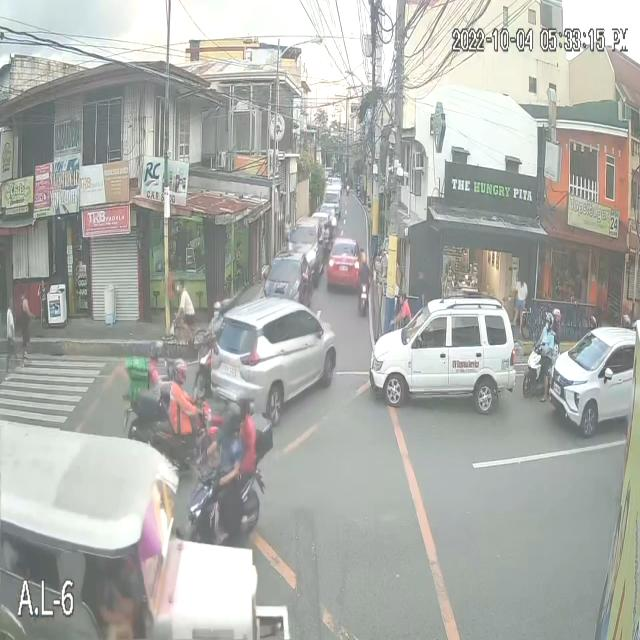Full-Faced: (219, 401, 241, 437), (169, 354, 190, 390), (231, 385, 250, 417), (549, 305, 563, 324)
Half-Faced: (146, 337, 165, 367), (542, 309, 552, 330)
Invalid: (209, 298, 222, 325)
